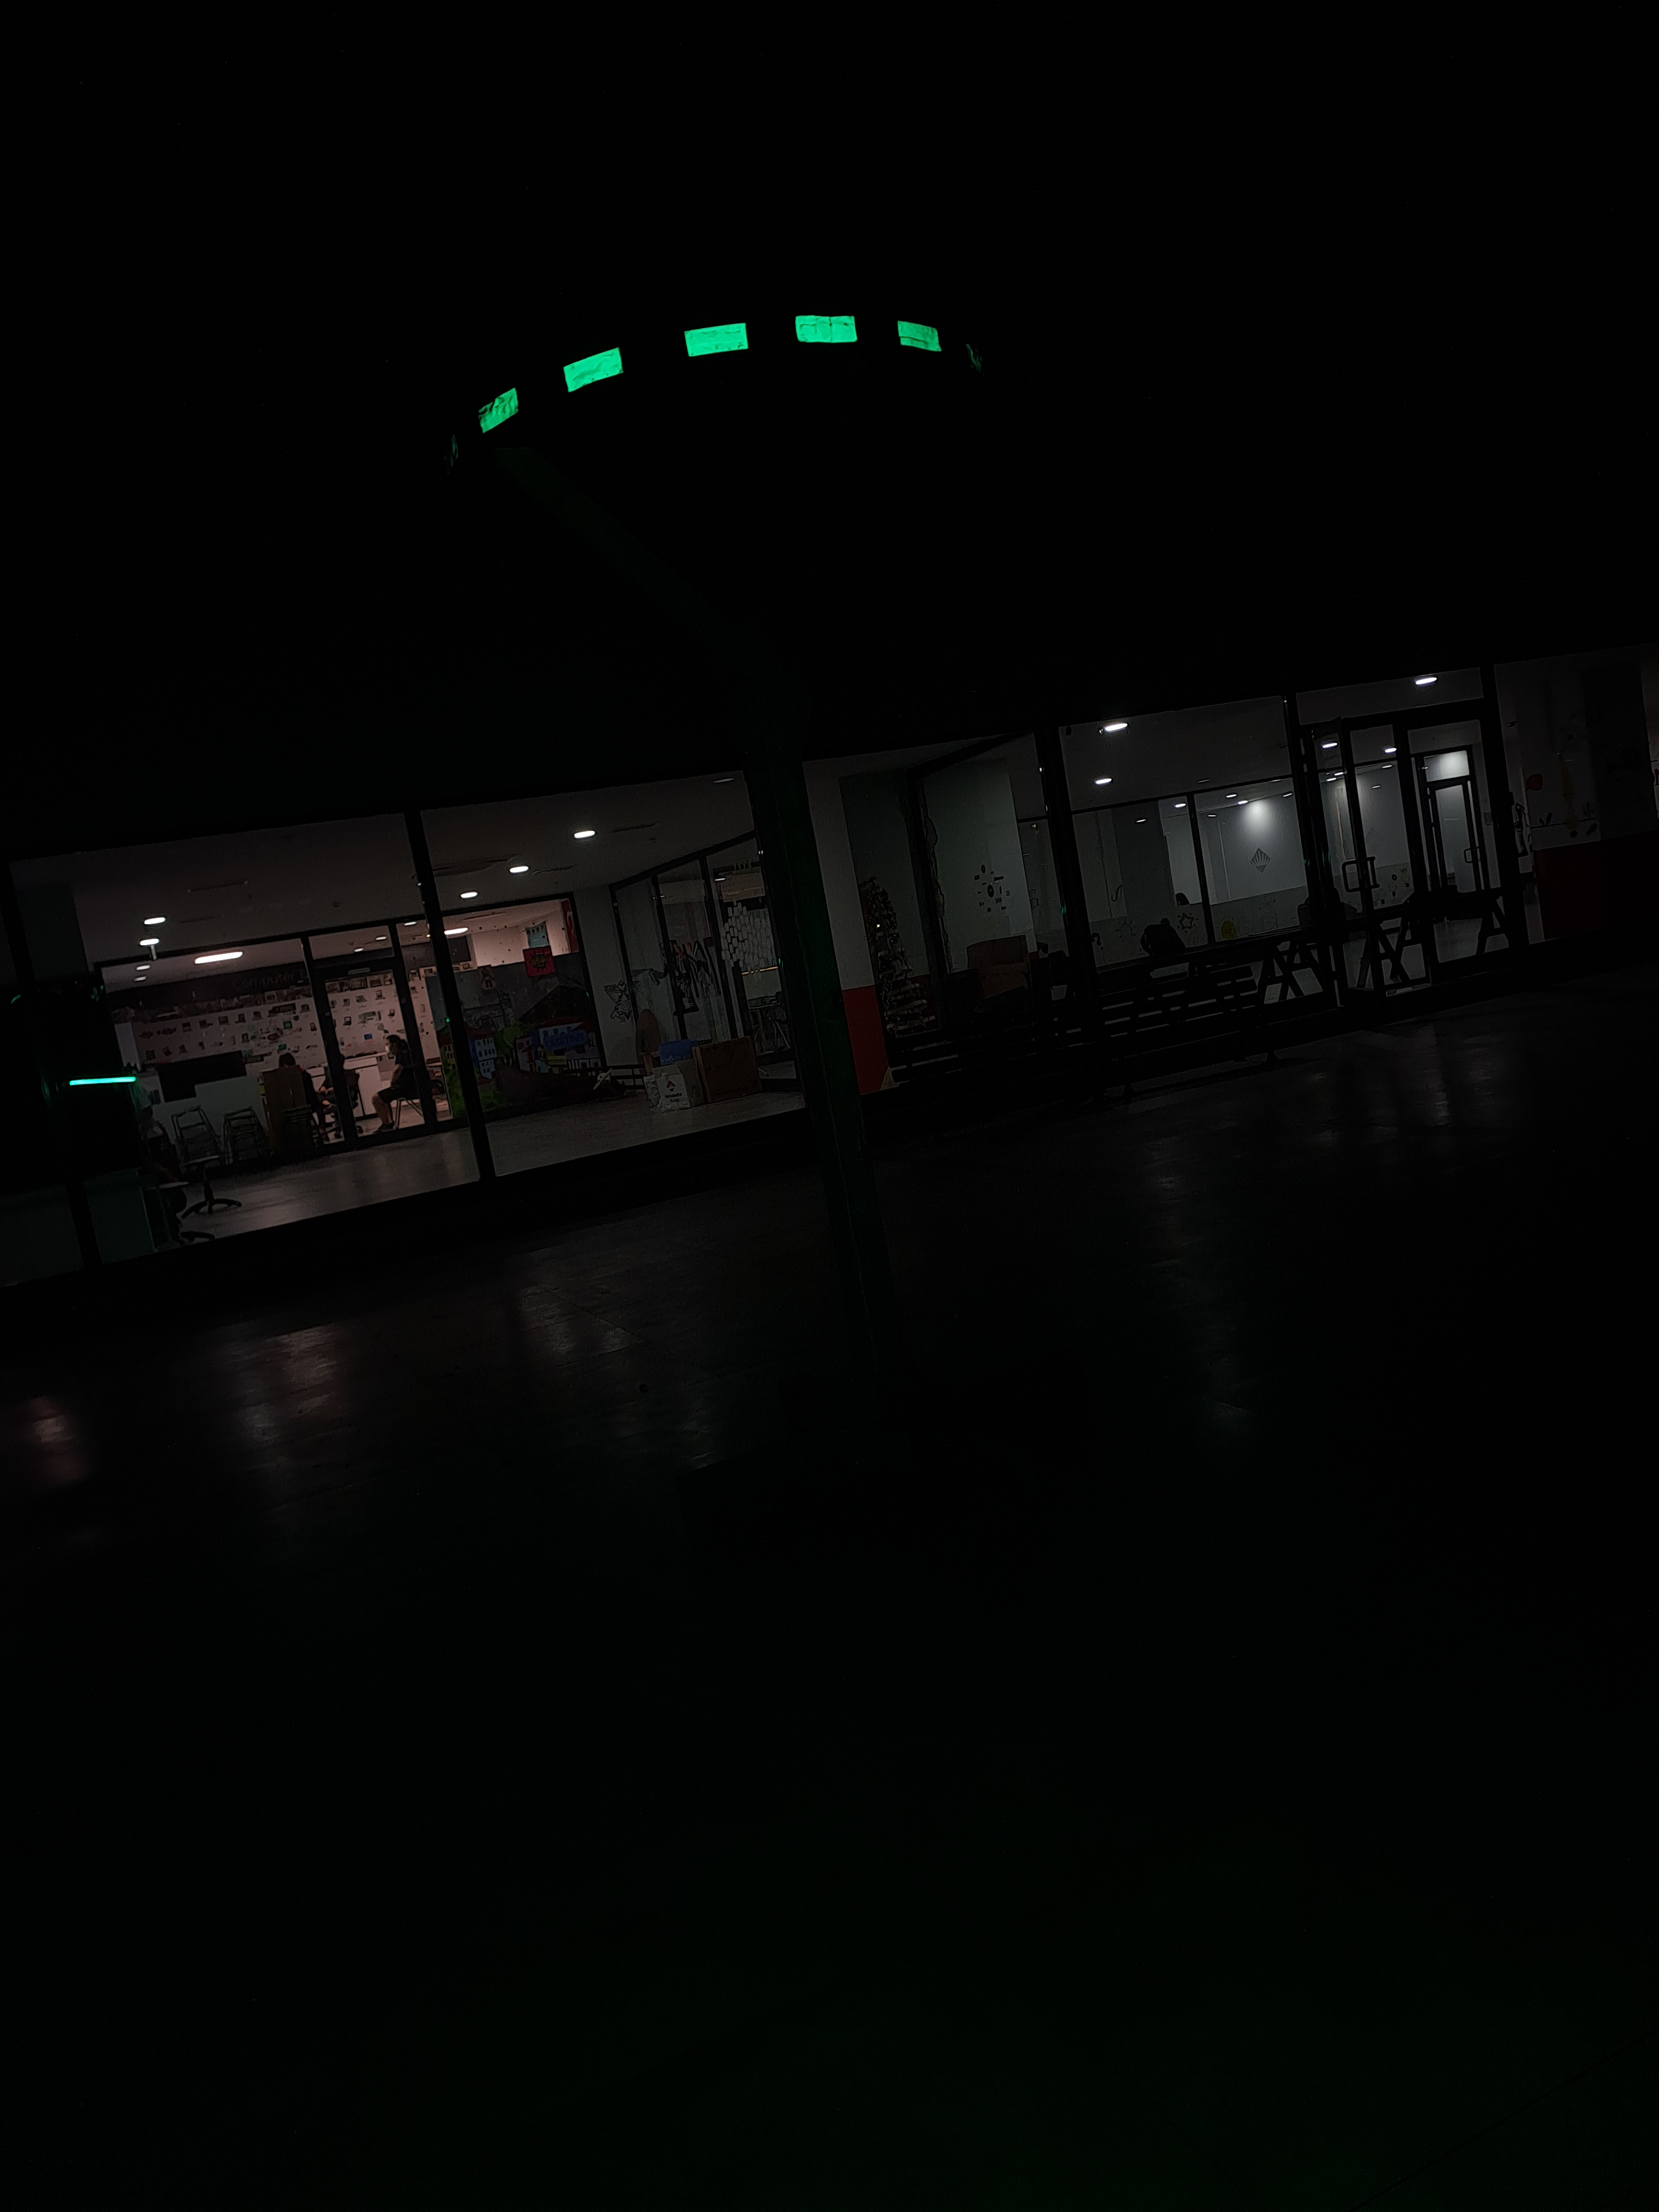hoop: (471, 312, 945, 437)
